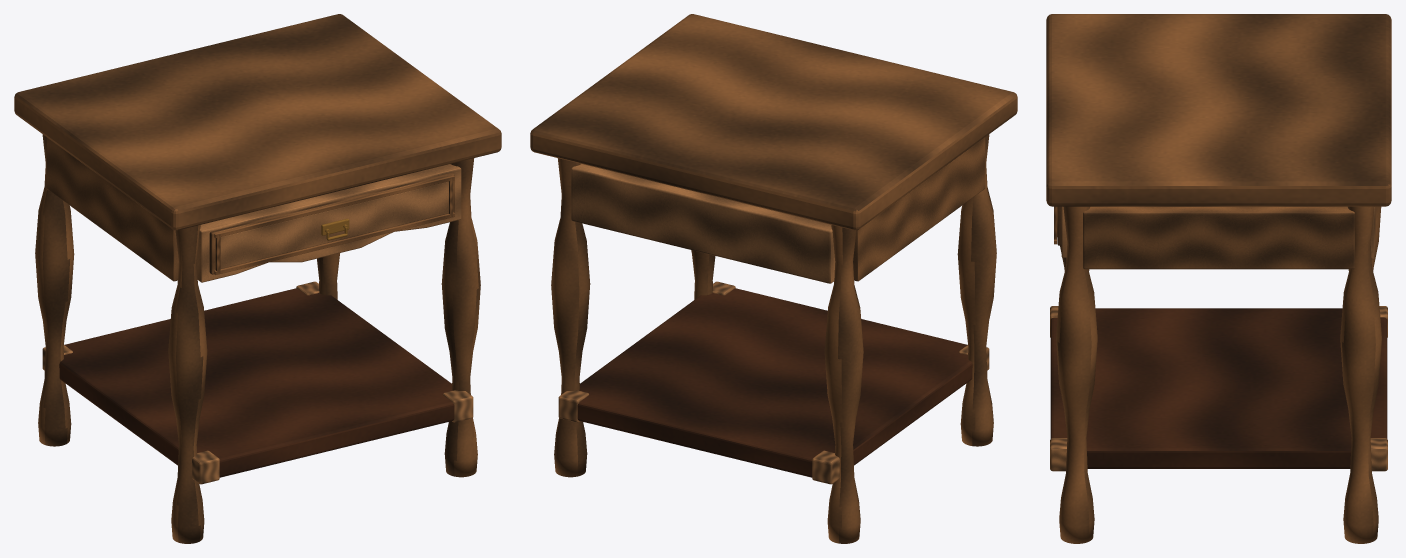
Rendered from asset.glb.
The picture shows the model from 3 angles, left to right: view 1: azimuth 30°, elevation 25°; view 2: azimuth 150°, elevation 25°; view 3: azimuth 270°, elevation 25°; orthographic projection. The views are drawn at different scales.
Parts seen in each view (by area): view 1: MaterialBatch_Room_furniture_quarter-sawn_oak, MaterialBatch_Room_furniture_smoked_walnut, MaterialBatch_Room_furniture_light_oak; view 2: MaterialBatch_Room_furniture_quarter-sawn_oak, MaterialBatch_Room_furniture_smoked_walnut, MaterialBatch_Room_furniture_light_oak; view 3: MaterialBatch_Room_furniture_quarter-sawn_oak, MaterialBatch_Room_furniture_smoked_walnut, MaterialBatch_Room_furniture_light_oak.
Part boxes in pixels (x1=…): MaterialBatch_Room_furniture_quarter-sawn_oak: x1=14, y1=14, x2=501, y2=543; MaterialBatch_Room_furniture_smoked_walnut: x1=59, y1=288, x2=454, y2=477; MaterialBatch_Room_furniture_light_oak: x1=42, y1=164, x2=473, y2=484; MaterialBatch_Room_furniture_quarter-sawn_oak: x1=530, y1=14, x2=1017, y2=543; MaterialBatch_Room_furniture_smoked_walnut: x1=577, y1=288, x2=972, y2=477; MaterialBatch_Room_furniture_light_oak: x1=558, y1=164, x2=989, y2=484; MaterialBatch_Room_furniture_quarter-sawn_oak: x1=1046, y1=14, x2=1391, y2=543; MaterialBatch_Room_furniture_smoked_walnut: x1=1050, y1=308, x2=1387, y2=468; MaterialBatch_Room_furniture_light_oak: x1=1050, y1=206, x2=1387, y2=471.
Bounding box in the file's own units: 20 × 20 × 17.
Materials: 4 (4 with a texture image).
